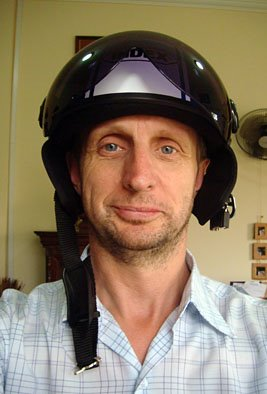helmet: (32, 13, 243, 120)
